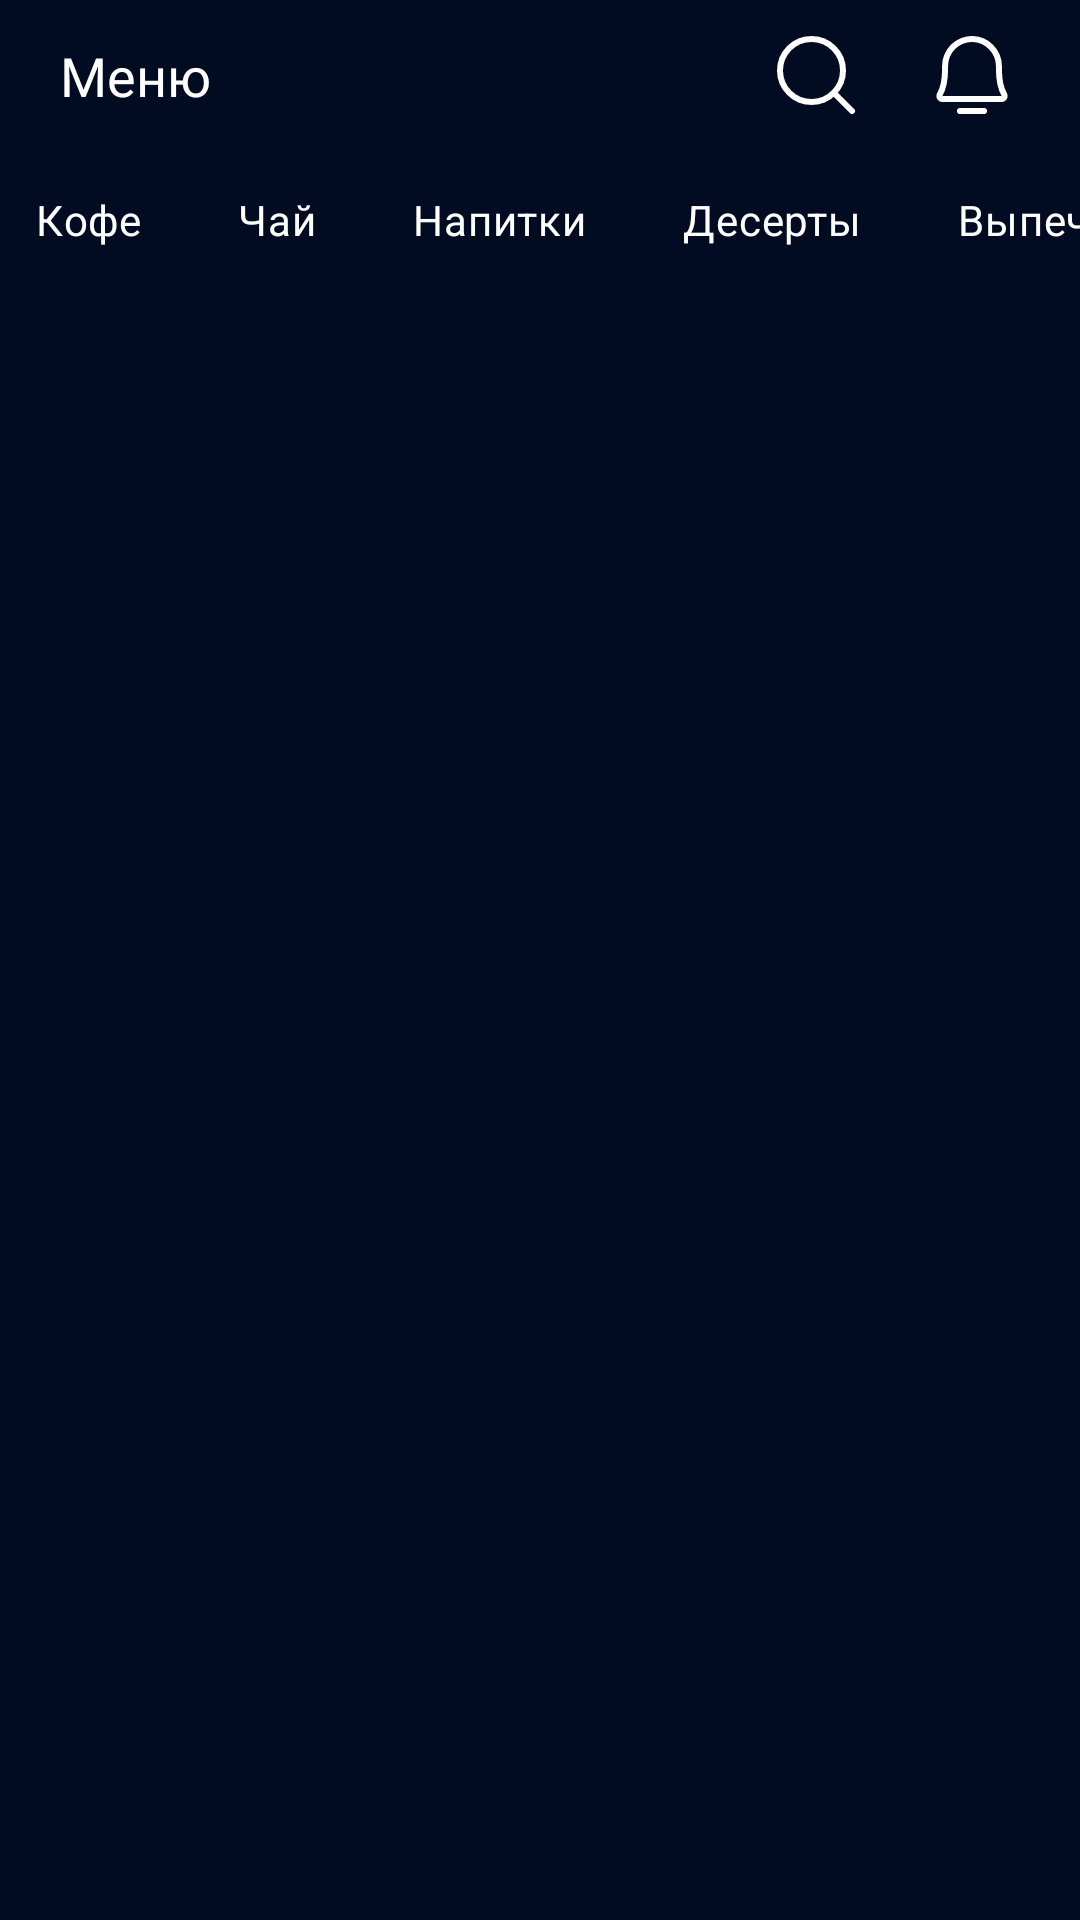

Icons on this 1080px×1920px Android screen, each with the point to tap as [x,y]:
bellsimple: [972,75]
magnifyingglass: [816,75]
